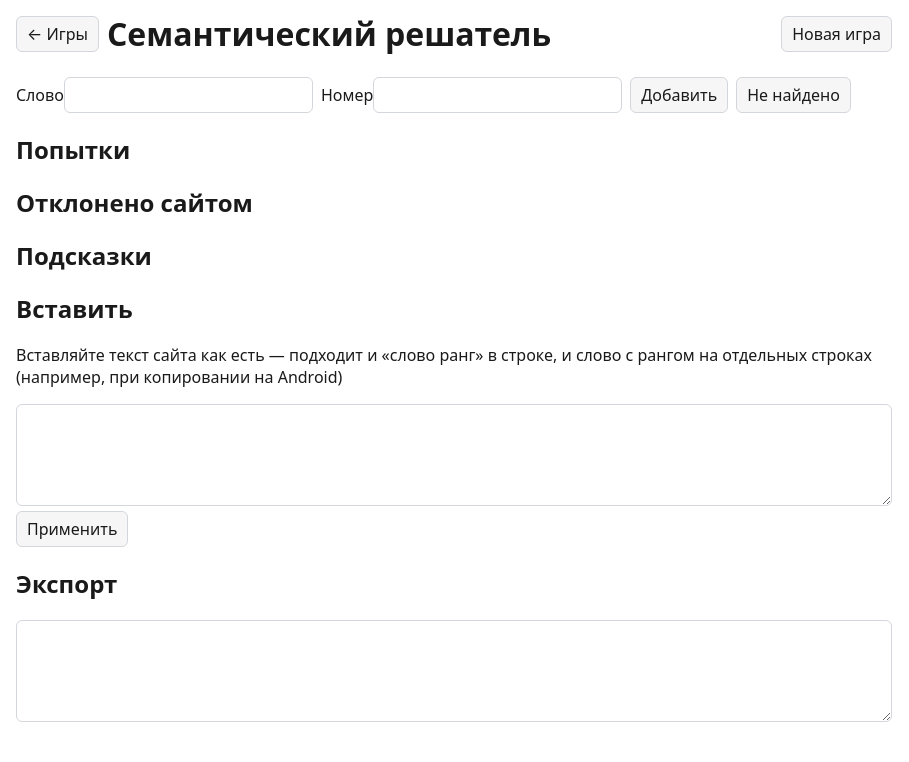
Test: SemanticScreen › adds a guess and shows suggestions
Type "снег" into the field labelled "Слово" at {"x": 188, "y": 95}, box [64,77,313,113]
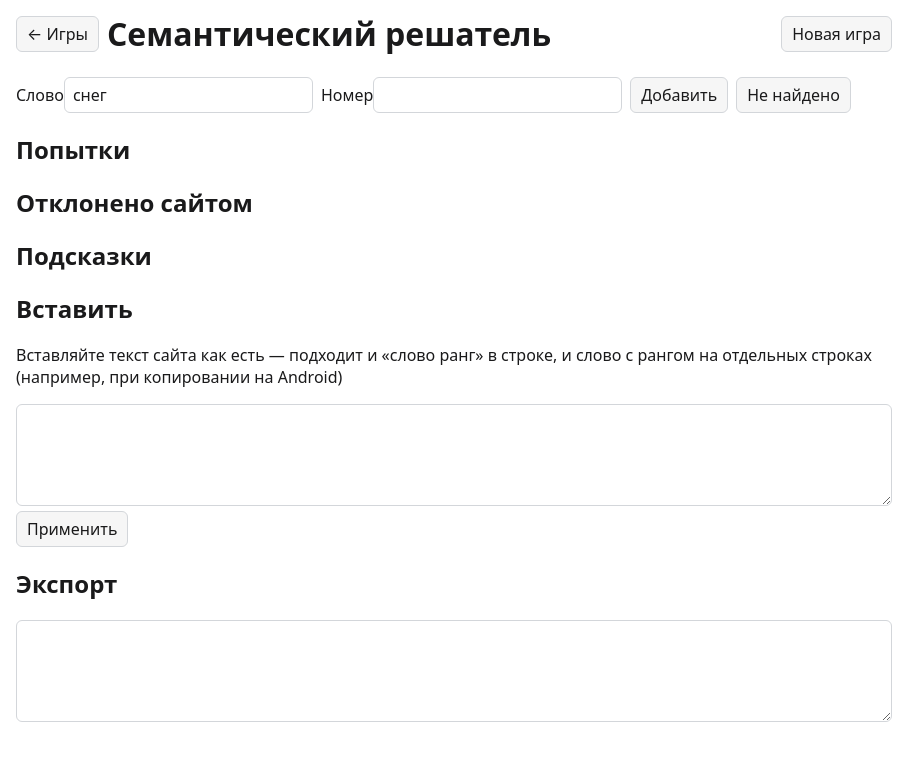
Type "206" into the field labelled "Номер" at {"x": 498, "y": 95}, box [373,77,622,113]
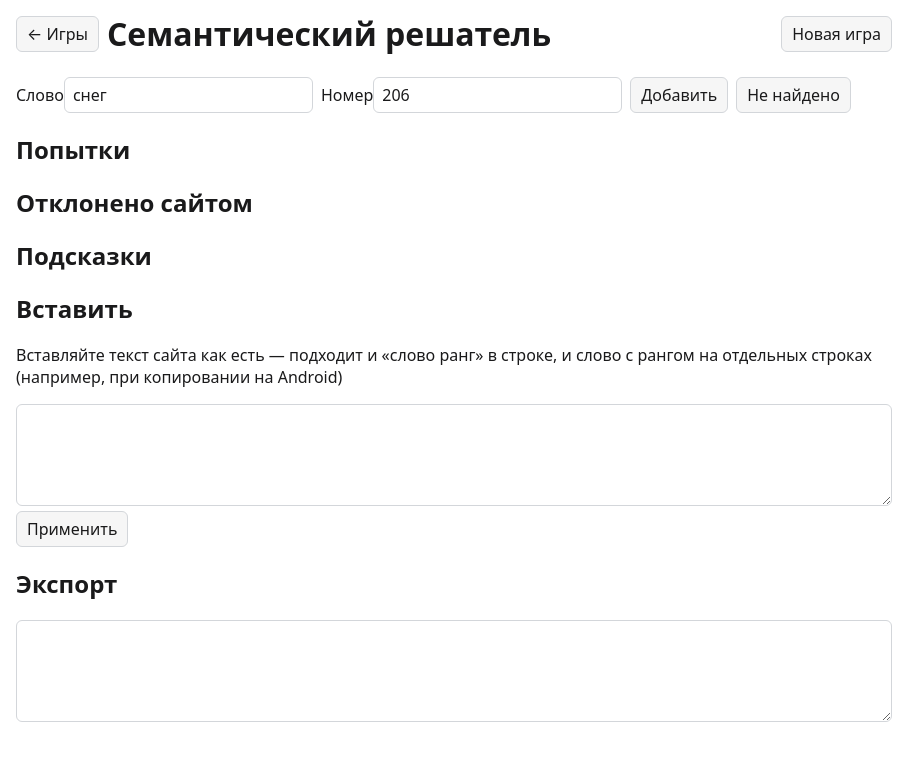
Click the button "Добавить" at {"x": 679, "y": 95}, box [630,77,728,113]
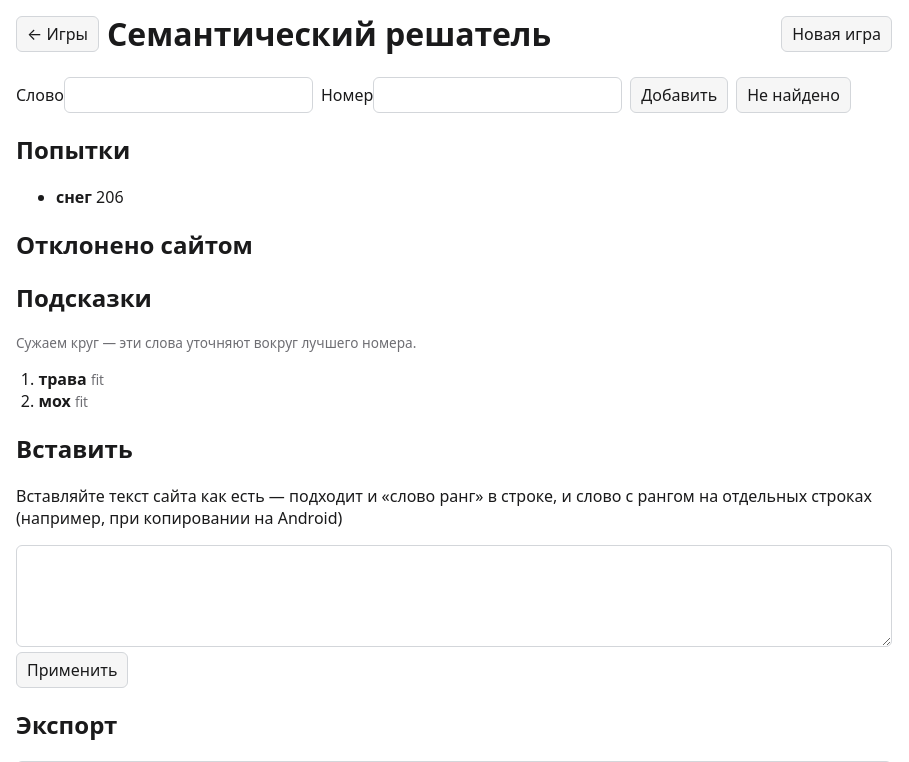
Expected: the text "снег" is shown, [56,186,92,208]
Expected: the text "206" is shown, [96,186,124,208]
Expected: the text "трава" is shown, [38,368,87,390]
